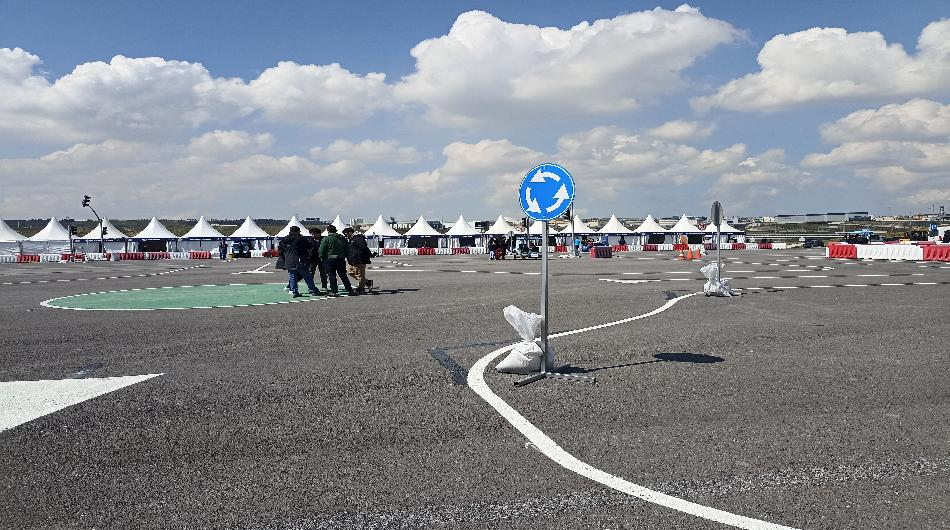ada: (517, 162, 579, 224)
